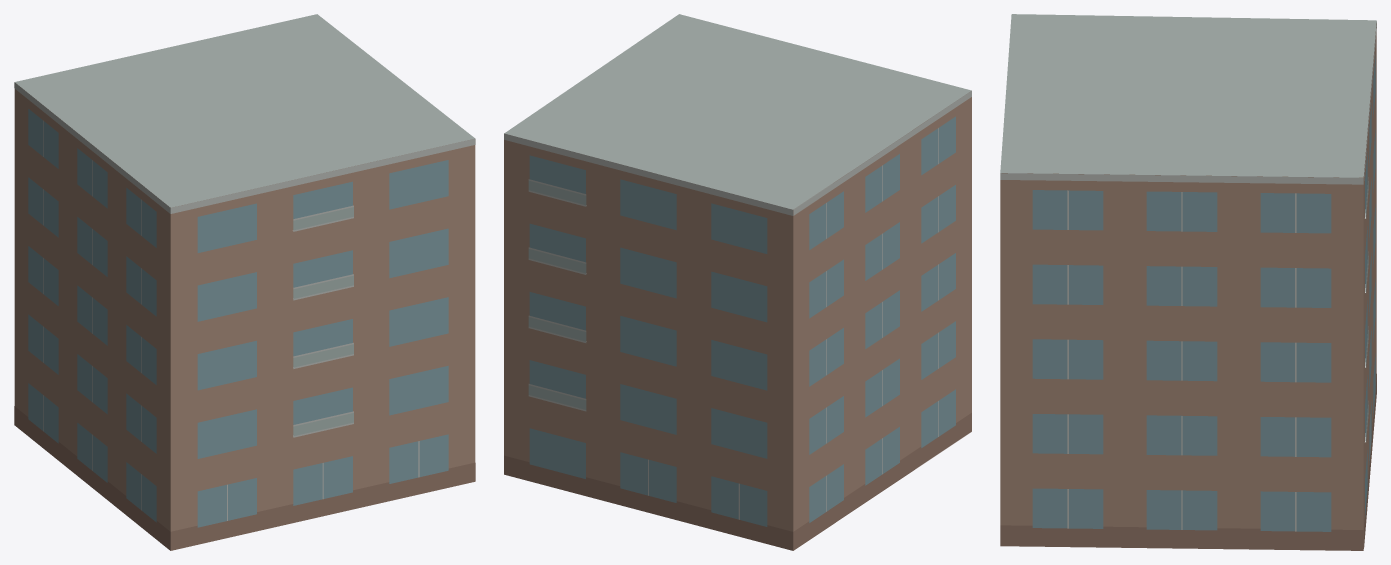
File: survey-upis-32782081.glb
3 renders of one model, left to right at view 1: azimuth 30°, elevation 25°; view 2: azimuth 150°, elevation 25°; view 3: azimuth 270°, elevation 25°, orthographic. The views are drawn at different scales.
Visible parts, largest first — view 1: survey-upis-32782081.tmp; view 2: survey-upis-32782081.tmp; view 3: survey-upis-32782081.tmp.
Boxes of the visible parts, x1=… form: survey-upis-32782081.tmp: x1=14, y1=14, x2=475, y2=550; survey-upis-32782081.tmp: x1=504, y1=14, x2=971, y2=550; survey-upis-32782081.tmp: x1=1000, y1=14, x2=1376, y2=550.
Bounding box in the file's own units: 12.48 × 13.25 × 12.13.
